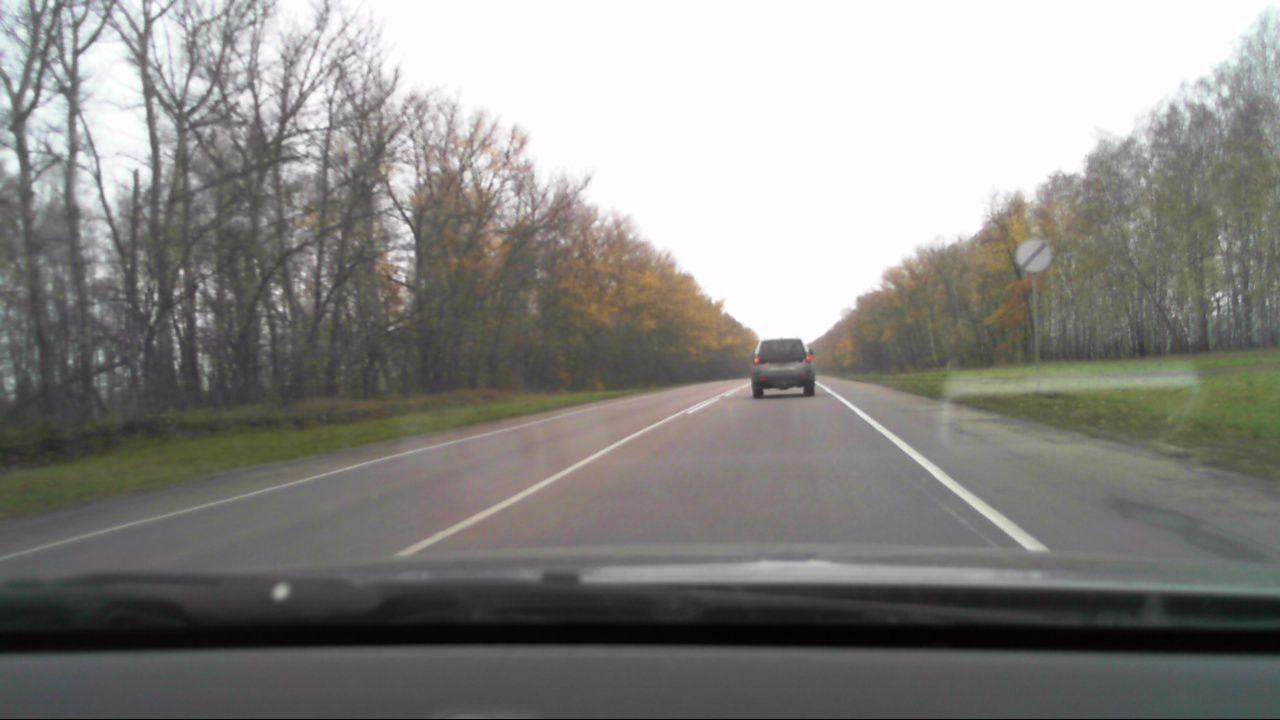3_31: (1015, 235, 1052, 272)
